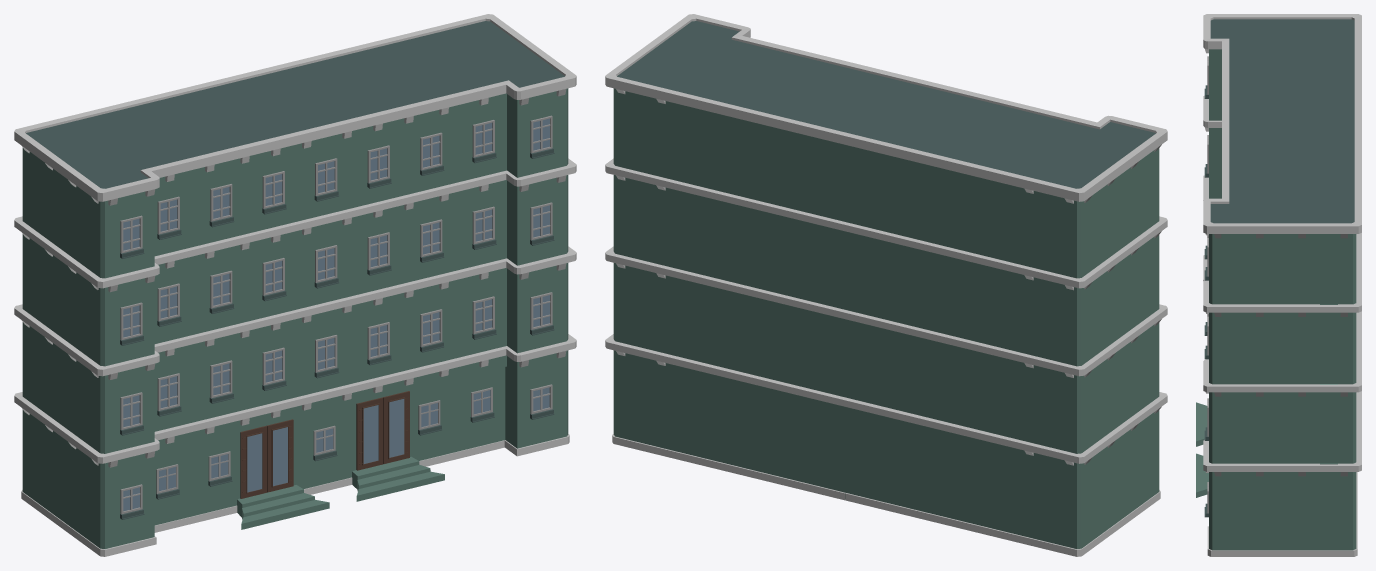
The model's file is Building3.fbx.
3 views of the same model, side by side, from view 1: azimuth 30°, elevation 25°; view 2: azimuth 150°, elevation 25°; view 3: azimuth 270°, elevation 25° (orthographic). The views are drawn at different scales.
Parts seen in each view (by area): view 1: Building3; view 2: Building3; view 3: Building3.
Boxes of the visible parts, x1,y1,x2,y2 form: Building3: (14, 14, 576, 556); Building3: (605, 14, 1167, 556); Building3: (1196, 14, 1361, 556).
Size of the model in its own units: 683 by 499 by 226.
